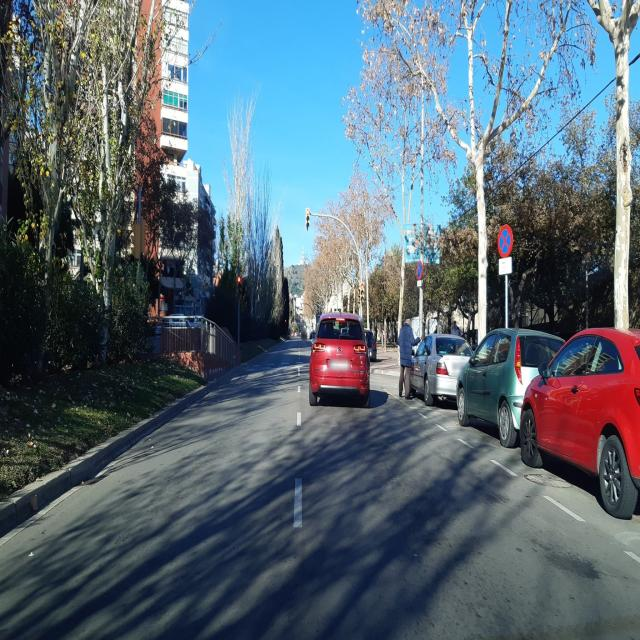forb_stopping: (417, 261, 423, 281)
forb_waiting: (498, 228, 512, 256)
